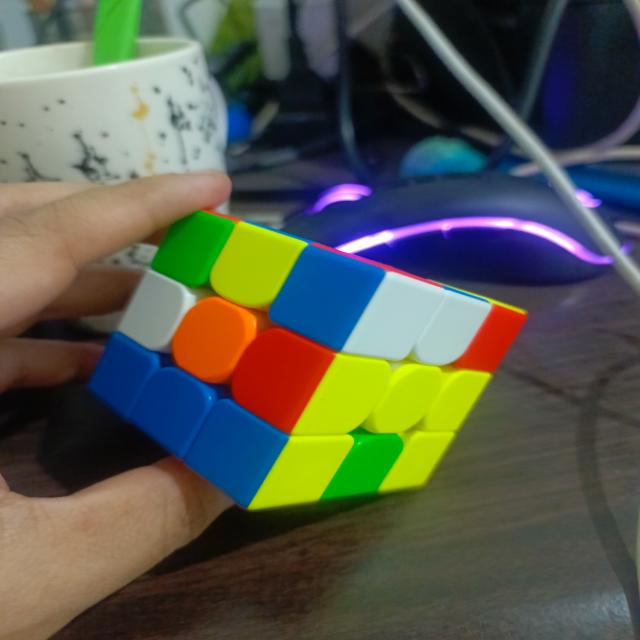rubik: (85, 208, 529, 512)
